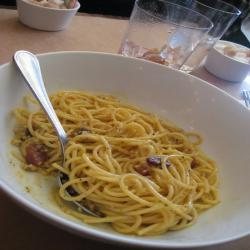carbonara: (15, 88, 227, 234)
